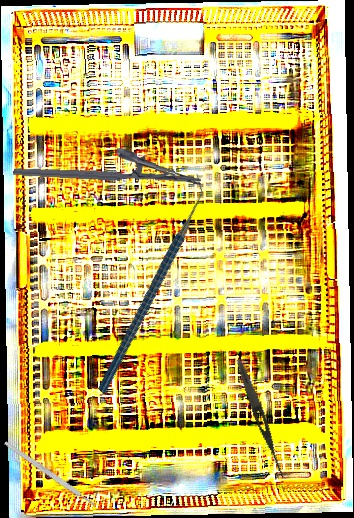Chopper: (37, 172, 263, 395)
Dressing Forceps: (233, 357, 289, 480)
Needle Holder: (13, 142, 203, 186)
Scalpel Handle: (3, 439, 97, 509)
